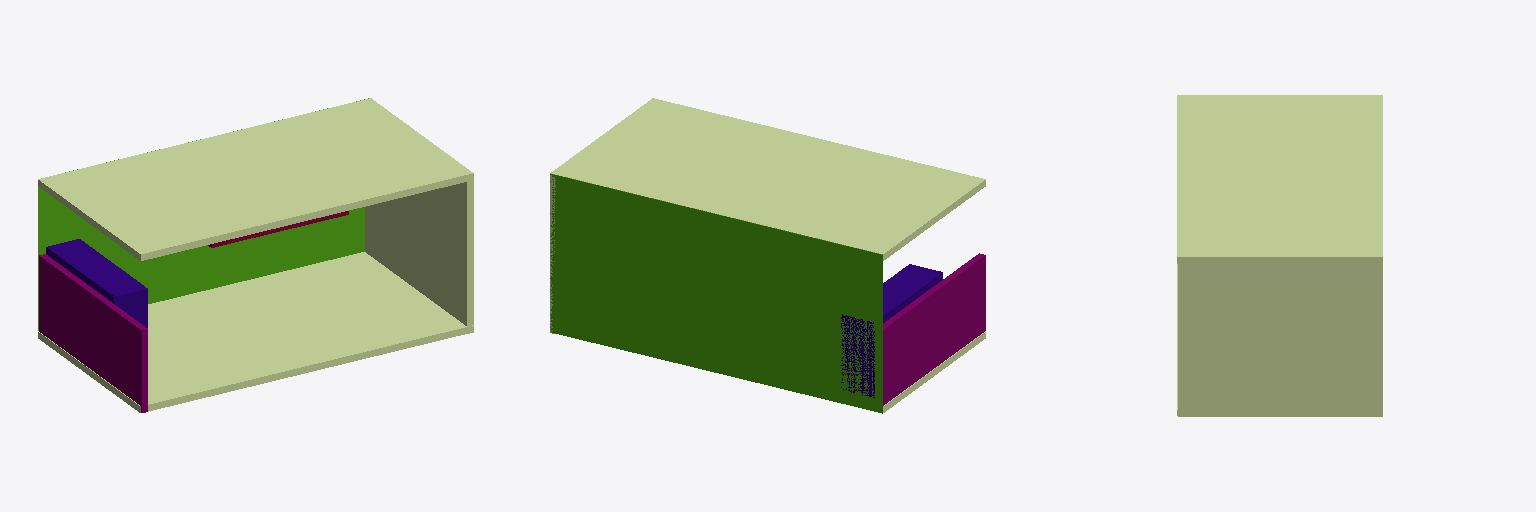
Rendered from cuarto.obj.
3 views of the same model, side by side, from view 1: azimuth 30°, elevation 25°; view 2: azimuth 150°, elevation 25°; view 3: azimuth 270°, elevation 25° (orthographic).
Parts seen in each view (by area): view 1: Box004, Box008, Box001, Box003, Box007, Box006, Box005; view 2: Box001, Box004, Box007, Box006, Box008; view 3: Box004, Box003.
Part boxes in pixels (left/top/right/bottom): Box004: left=38, top=98, right=473, bottom=260; Box008: left=38, top=252, right=473, bottom=412; Box001: left=38, top=98, right=368, bottom=330; Box003: left=365, top=180, right=473, bottom=333; Box007: left=39, top=254, right=147, bottom=412; Box006: left=46, top=239, right=147, bottom=327; Box005: left=208, top=211, right=348, bottom=247; Box001: left=550, top=174, right=882, bottom=413; Box004: left=550, top=98, right=985, bottom=260; Box007: left=883, top=253, right=985, bottom=405; Box006: left=841, top=264, right=942, bottom=397; Box008: left=883, top=331, right=985, bottom=412; Box004: left=1177, top=95, right=1382, bottom=263; Box003: left=1178, top=258, right=1382, bottom=416.
Bounding box in the file's own units: 199 × 91.02 × 107.